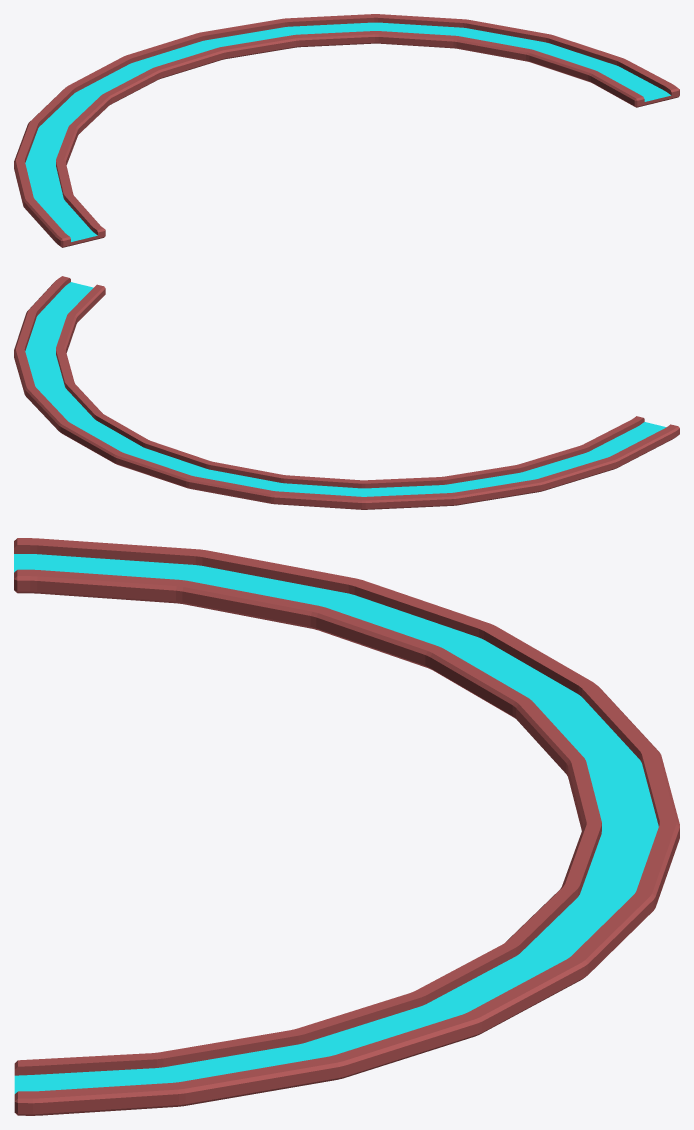
Rendered from ConveyorBelt1.fbx.
The picture shows the model from 3 angles, top to bottom: view 1: azimuth 30°, elevation 25°; view 2: azimuth 150°, elevation 25°; view 3: azimuth 270°, elevation 25°; orthographic projection. The views are drawn at different scales.
Parts seen in each view (by area): view 1: Cube; view 2: Cube; view 3: Cube.
Part boxes in pixels (bbox=[...]): Cube: bbox=[14, 14, 679, 247]; Cube: bbox=[14, 276, 679, 509]; Cube: bbox=[14, 538, 679, 1115].
Size of the model in its own units: 7008 by 100 by 3500.
